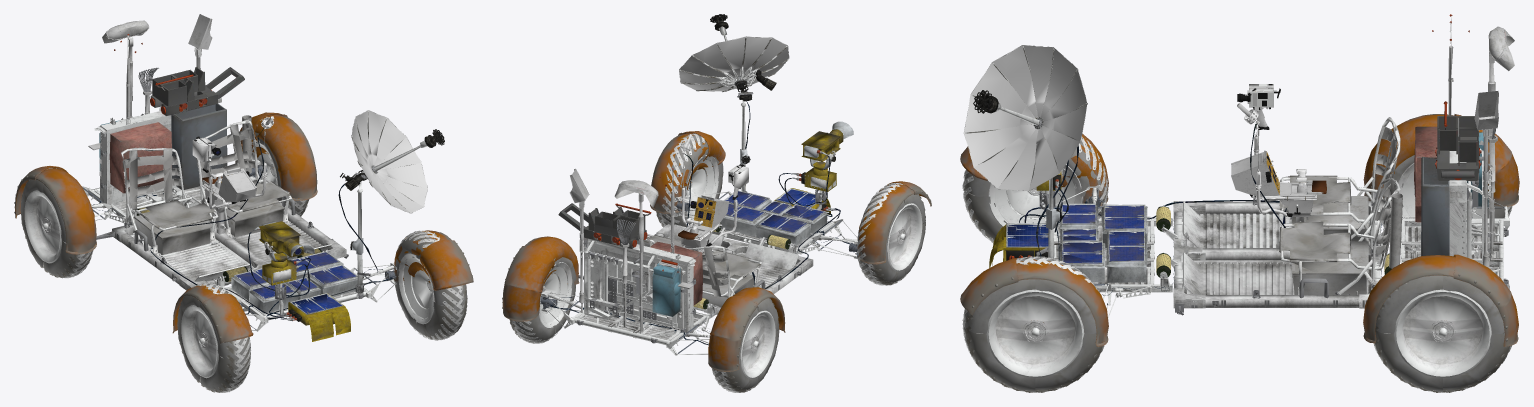
Rendered from lunar_roving_vehicle.glb.
The picture shows the model from 3 angles, left to right: view 1: azimuth 30°, elevation 25°; view 2: azimuth 150°, elevation 25°; view 3: azimuth 270°, elevation 25°; orthographic projection. The views are drawn at different scales.
Parts seen in each view (by area): view 1: body, wheel_fr, wheel_fl, wheel_rr, cover_L_B, cover_R_B, cover_L_F, cover_R_F, wheel_rl; view 2: body, wheel_fr, cover_L_B, wheel_rr, cover_R_B, wheel_fl, wheel_rl, cover_R_F, cover_L_F; view 3: body, wheel_fl, wheel_rl, wheel_fr, cover_L_B, cover_L_F, cover_R_B, wheel_rr, cover_R_F.
Part boxes in pixels (bbox=[...]): body: bbox=[49, 14, 444, 341]; wheel_fr: bbox=[177, 283, 250, 392]; wheel_fl: bbox=[394, 230, 467, 340]; wheel_rr: bbox=[20, 168, 93, 278]; cover_L_B: bbox=[235, 112, 317, 200]; cover_R_B: bbox=[14, 166, 96, 254]; cover_L_F: bbox=[394, 230, 473, 290]; cover_R_F: bbox=[172, 284, 253, 343]; wheel_rl: bbox=[251, 116, 309, 216]; body: bbox=[540, 14, 858, 355]; wheel_fr: bbox=[857, 183, 925, 285]; cover_L_B: bbox=[502, 236, 579, 321]; wheel_rr: bbox=[711, 298, 779, 392]; cover_R_B: bbox=[708, 287, 785, 371]; wheel_fl: bbox=[656, 133, 723, 227]; wheel_rl: bbox=[510, 257, 576, 343]; cover_R_F: bbox=[857, 181, 931, 264]; cover_L_F: bbox=[650, 131, 725, 213]; body: bbox=[963, 14, 1514, 333]; wheel_fl: bbox=[962, 256, 1104, 392]; wheel_rl: bbox=[1373, 275, 1511, 392]; wheel_fr: bbox=[962, 137, 1108, 243]; cover_L_B: bbox=[1363, 254, 1518, 346]; cover_L_F: bbox=[960, 258, 1108, 346]; cover_R_B: bbox=[1363, 114, 1519, 206]; wheel_rr: bbox=[1381, 155, 1512, 249]; cover_R_F: bbox=[960, 134, 1108, 205].
Bounding box in the file's own units: 2.14 × 1.86 × 3.14.
Materials: 14 (12 with a texture image).
